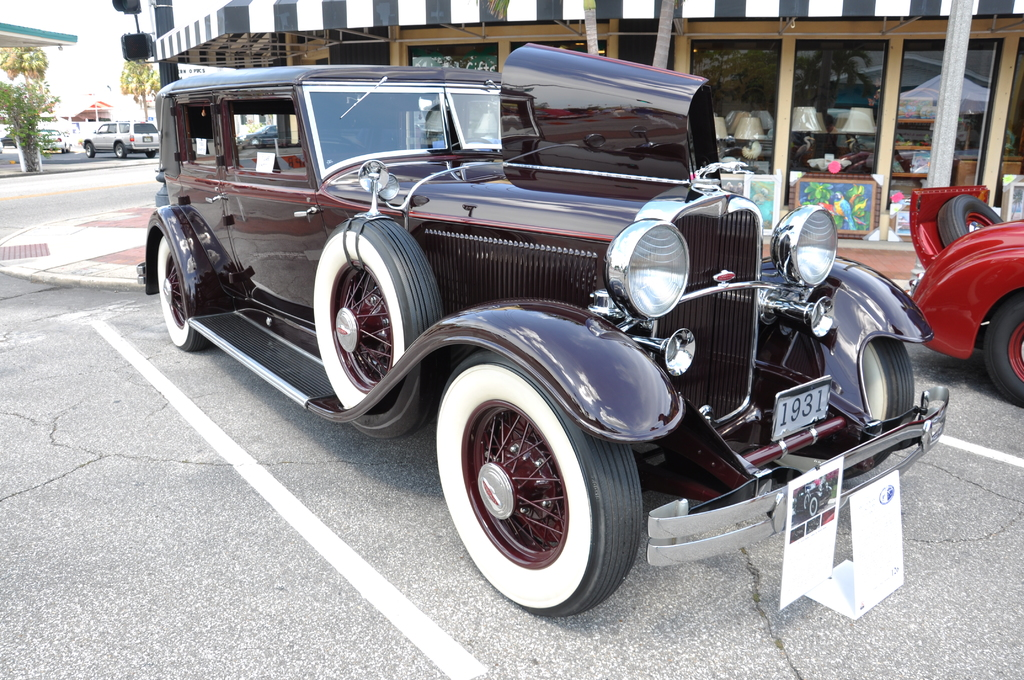Car: (164, 56, 931, 617), (901, 177, 1023, 409), (79, 123, 166, 154)
